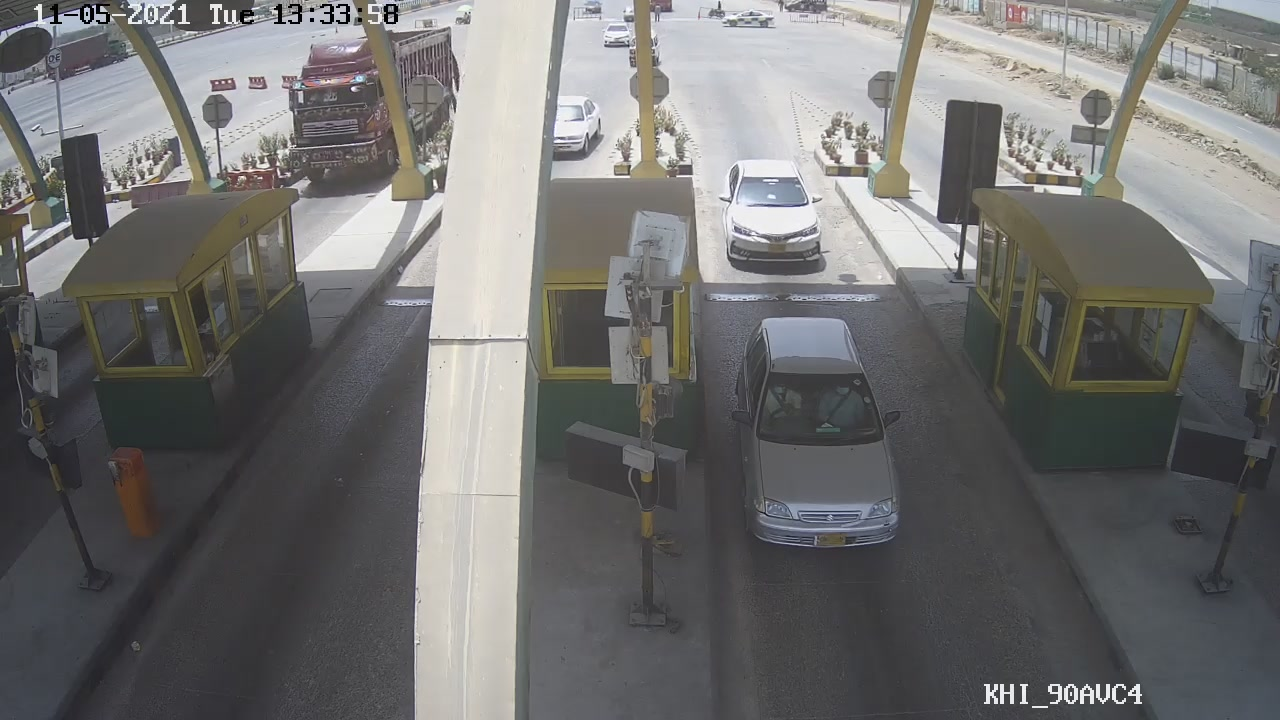F1: (728, 308, 904, 559), (717, 150, 834, 269)
